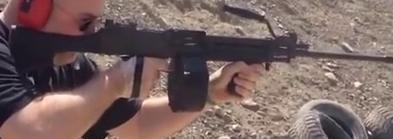gun: (1, 1, 393, 139)
